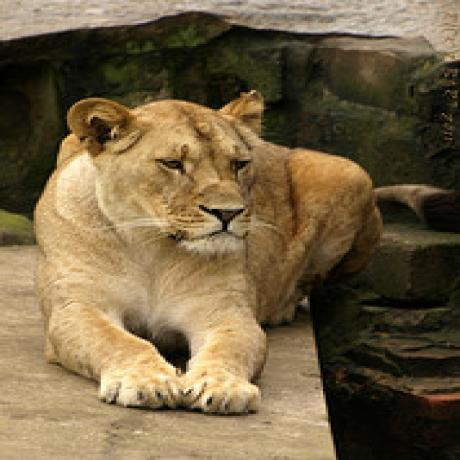Lion: (36, 86, 379, 417)
